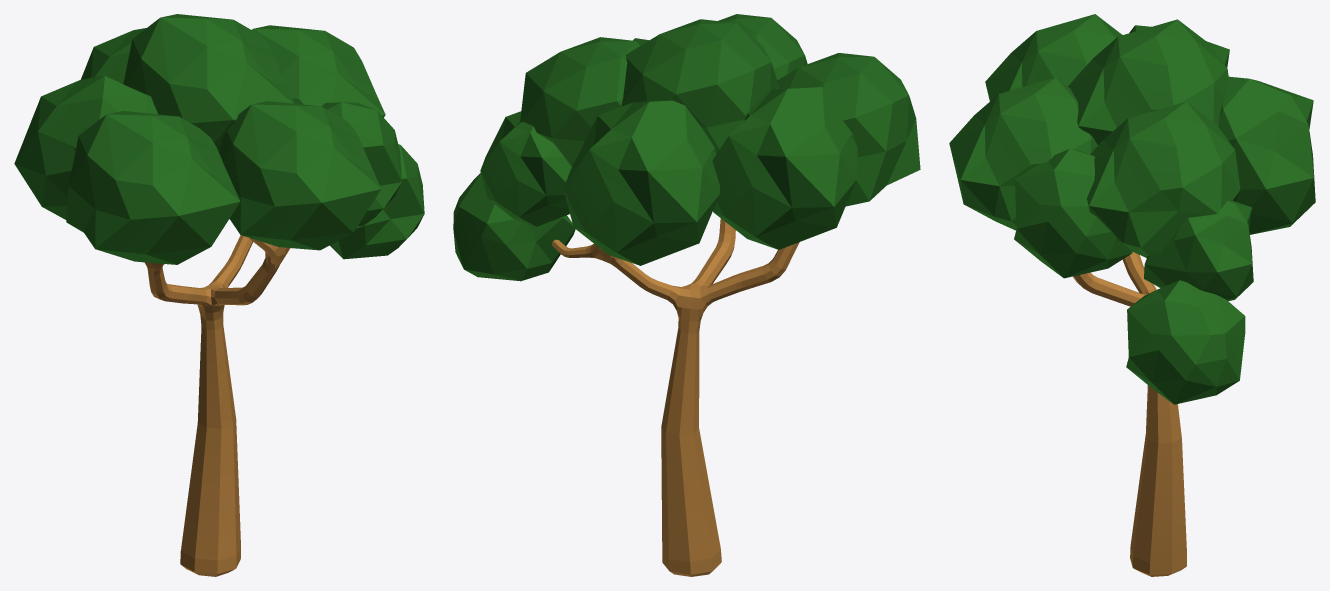
Rendered from tree.132_lev4.glb.
3 views of the same model, side by side, from view 1: azimuth 30°, elevation 25°; view 2: azimuth 150°, elevation 25°; view 3: azimuth 270°, elevation 25° (orthographic). The views are drawn at different scales.
Visible parts, largest first — view 1: tree.132_lev4; view 2: tree.132_lev4; view 3: tree.132_lev4.
Boxes of the visible parts, x1,y1,x2,y2 form: tree.132_lev4: (14,14,424,576); tree.132_lev4: (453,14,920,576); tree.132_lev4: (949,14,1315,576).
Size of the model in its own units: 0.7506 by 1 by 0.6278.
